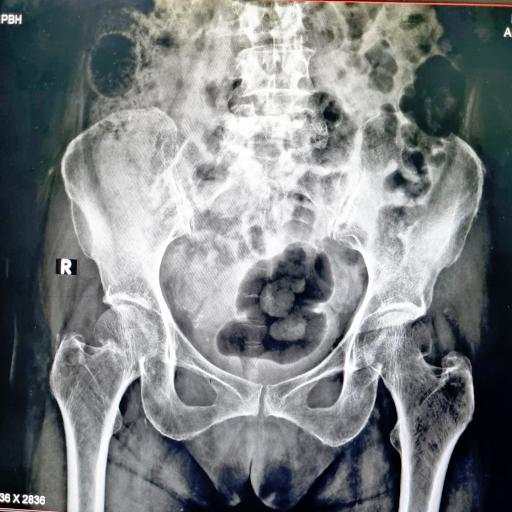neck: (49, 332, 143, 485), (94, 304, 159, 364)
normal: (364, 311, 474, 512)
